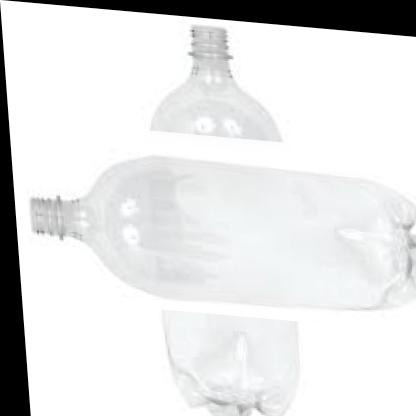trash: (30, 156, 415, 307)
